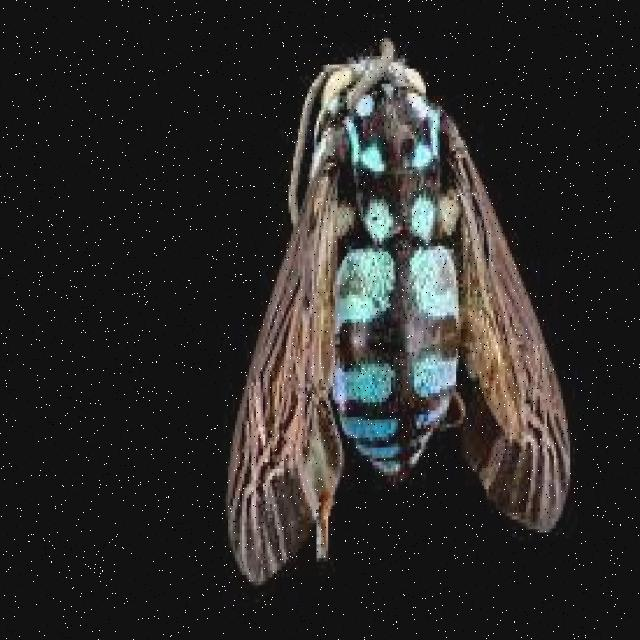Thyreus: (211, 20, 594, 592)
